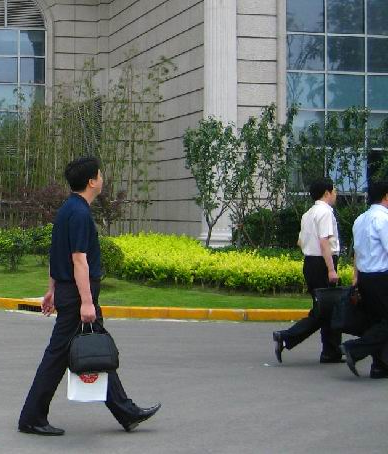pedestrian: (18, 157, 161, 436), (273, 178, 350, 363)
